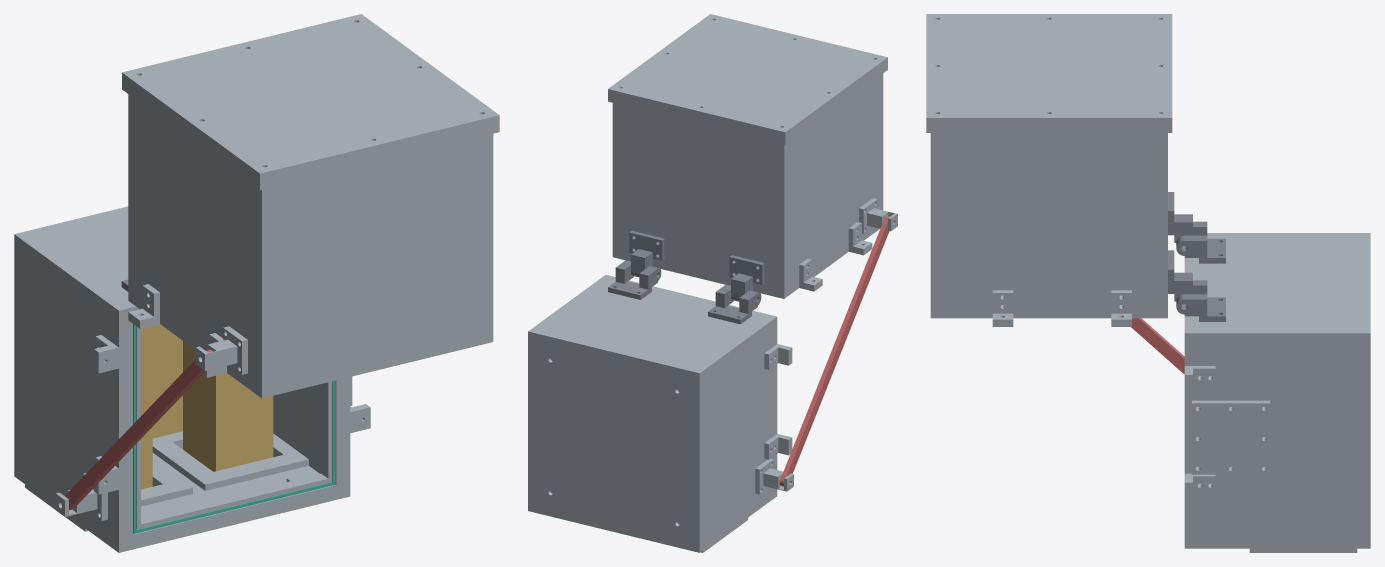
Rendered from winch-90-degrees.glb.
3 renders of one model, left to right at view 1: azimuth 30°, elevation 25°; view 2: azimuth 150°, elevation 25°; view 3: azimuth 270°, elevation 25°, orthographic. The views are drawn at different scales.
Visible parts, largest first — view 1: hood, base, roof, motor-B, removable-metal-prop, motor-base-plate, joint-gasket, motor-A, moving-prop-clevis, fixed-prop-clevis, left-closing-clamp-hood-185, left-closing-clamp-base-185; view 2: base, hood, roof, removable-metal-prop, fixed-hinge-160, fixed-hinge-26, moving-hinge-26, moving-hinge-160, fixed-prop-clevis, moving-prop-clevis, left-closing-clamp-base-185, left-closing-clamp-base-70 (+2 smaller); view 3: base, hood, roof, hybrid-cap, fixed-hinge-26, fixed-hinge-160, removable-metal-prop, right-closing-clamp-hood-70, right-closing-clamp-hood-185, right-closing-clamp-base-185, moving-hinge-160, moving-hinge-26 (+2 smaller).
Boxes of the visible parts, bbox=[...] form: hood: bbox=[128, 94, 493, 398]; base: bbox=[14, 206, 350, 552]; roof: bbox=[122, 14, 499, 190]; motor-B: bbox=[183, 341, 273, 471]; removable-metal-prop: bbox=[65, 349, 212, 510]; motor-base-plate: bbox=[152, 324, 182, 438]; joint-gasket: bbox=[133, 324, 335, 533]; motor-A: bbox=[141, 326, 152, 489]; moving-prop-clevis: bbox=[195, 326, 247, 374]; fixed-prop-clevis: bbox=[55, 473, 107, 520]; left-closing-clamp-hood-185: bbox=[128, 284, 159, 328]; left-closing-clamp-base-185: bbox=[94, 335, 118, 373]; base: bbox=[528, 275, 777, 552]; hood: bbox=[612, 73, 883, 298]; roof: bbox=[608, 14, 887, 144]; removable-metal-prop: bbox=[779, 215, 889, 486]; fixed-hinge-160: bbox=[608, 260, 661, 299]; fixed-hinge-26: bbox=[708, 284, 761, 324]; moving-hinge-26: bbox=[729, 255, 764, 301]; moving-hinge-160: bbox=[629, 230, 664, 277]; fixed-prop-clevis: bbox=[755, 459, 793, 494]; moving-prop-clevis: bbox=[859, 198, 897, 234]; left-closing-clamp-base-185: bbox=[764, 344, 792, 369]; left-closing-clamp-base-70: bbox=[764, 433, 792, 459]; base: bbox=[1184, 233, 1370, 548]; hood: bbox=[930, 133, 1167, 318]; roof: bbox=[926, 14, 1172, 132]; hybrid-cap: bbox=[1192, 400, 1270, 474]; fixed-hinge-26: bbox=[1176, 221, 1225, 263]; fixed-hinge-160: bbox=[1176, 280, 1225, 321]; removable-metal-prop: bbox=[1131, 318, 1184, 374]; right-closing-clamp-hood-70: bbox=[992, 290, 1013, 326]; right-closing-clamp-hood-185: bbox=[1111, 290, 1131, 326]; right-closing-clamp-base-185: bbox=[1184, 366, 1215, 393]; moving-hinge-160: bbox=[1168, 250, 1192, 304]; moving-hinge-26: bbox=[1168, 192, 1192, 246].
Size of the model in its own units: 0.288 by 0.468 by 0.43.
